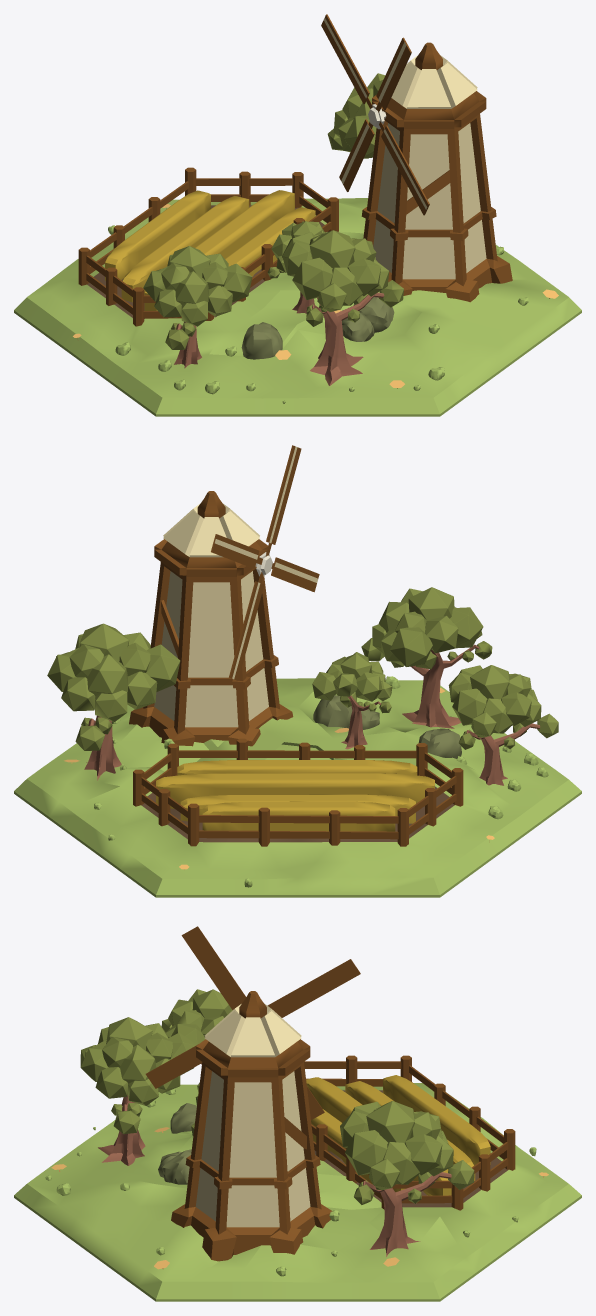
Rendered from farm.glb.
The picture shows the model from 3 angles, top to bottom: view 1: azimuth 30°, elevation 25°; view 2: azimuth 150°, elevation 25°; view 3: azimuth 270°, elevation 25°; orthographic projection.
Parts seen in each view (by area): view 1: farm, mill; view 2: farm, mill; view 3: farm, mill.
Boxes of the visible parts, left/top/right/bottom form: farm: left=14, top=42, right=581, bottom=416; mill: left=321, top=14, right=429, bottom=215; farm: left=14, top=491, right=581, bottom=897; mill: left=211, top=445, right=319, bottom=680; farm: left=14, top=989, right=581, bottom=1301; mill: left=145, top=926, right=360, bottom=1119.
Size of the model in its own units: 1.73 by 1.16 by 2.
Materials: 1 (1 with a texture image).
